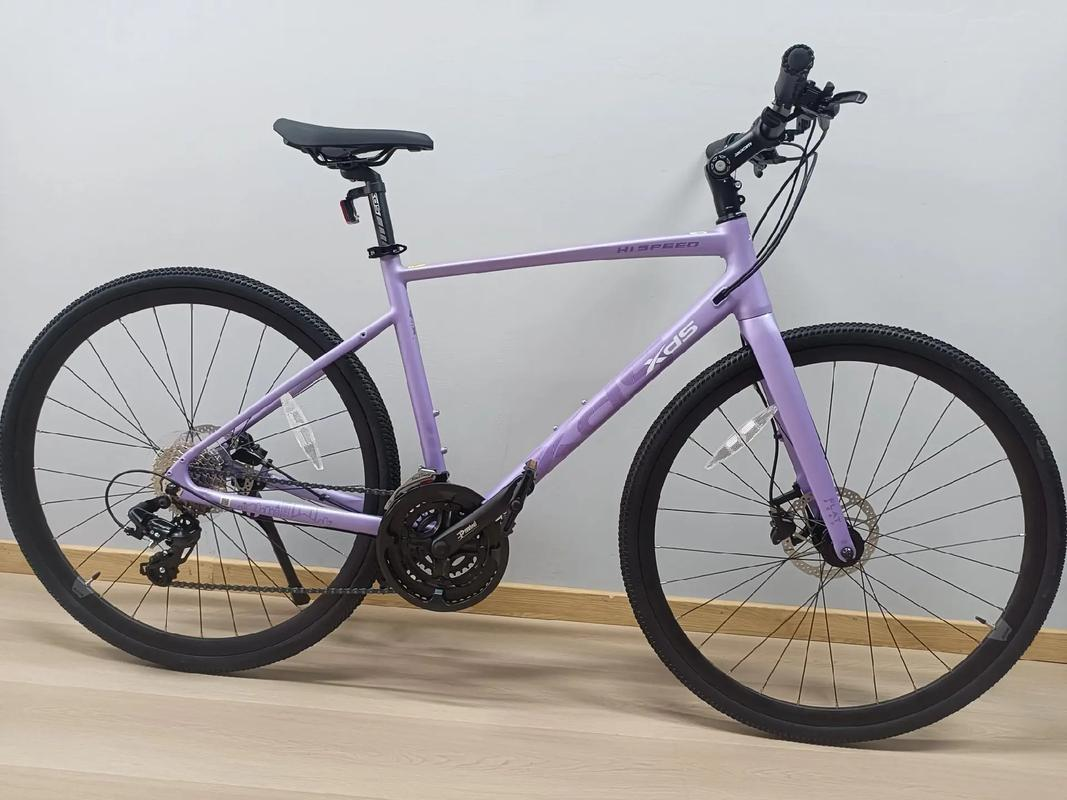单车: (1, 36, 1067, 754)
